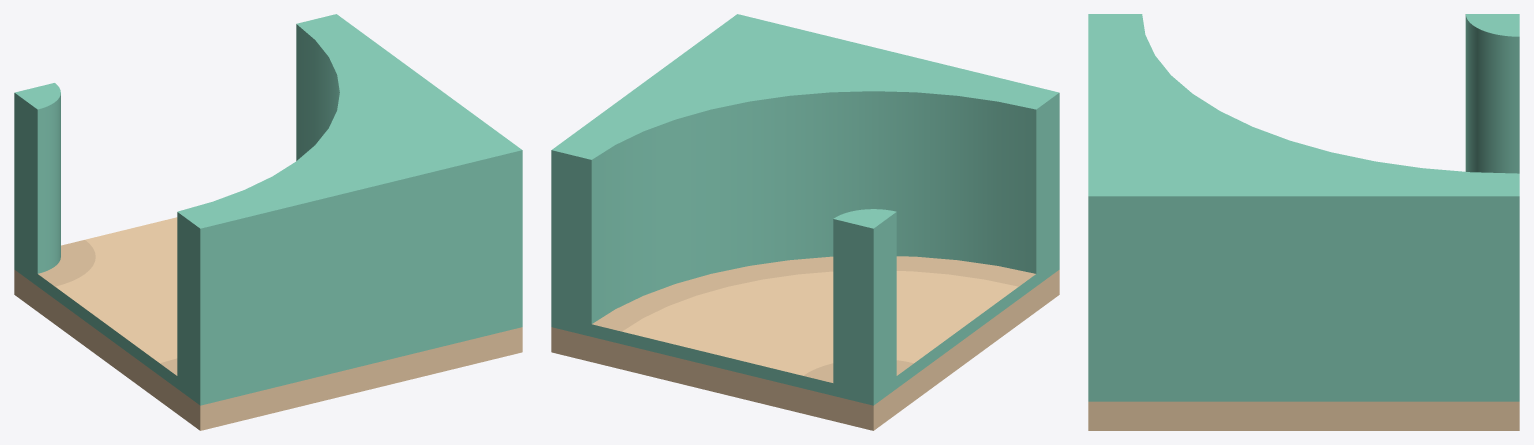
The model's file is CornerRound.fbx.
The picture shows the model from 3 angles, left to right: view 1: azimuth 30°, elevation 25°; view 2: azimuth 150°, elevation 25°; view 3: azimuth 270°, elevation 25°; orthographic projection. The views are drawn at different scales.
Visible parts, largest first — view 1: tile_cornerRound; view 2: tile_cornerRound; view 3: tile_cornerRound.
Boxes of the visible parts, x1,y1,x2,y2 form: tile_cornerRound: [14, 14, 522, 430]; tile_cornerRound: [551, 14, 1059, 430]; tile_cornerRound: [1088, 14, 1519, 430].
Bounding box in the file's own units: 100 × 60 × 100.
